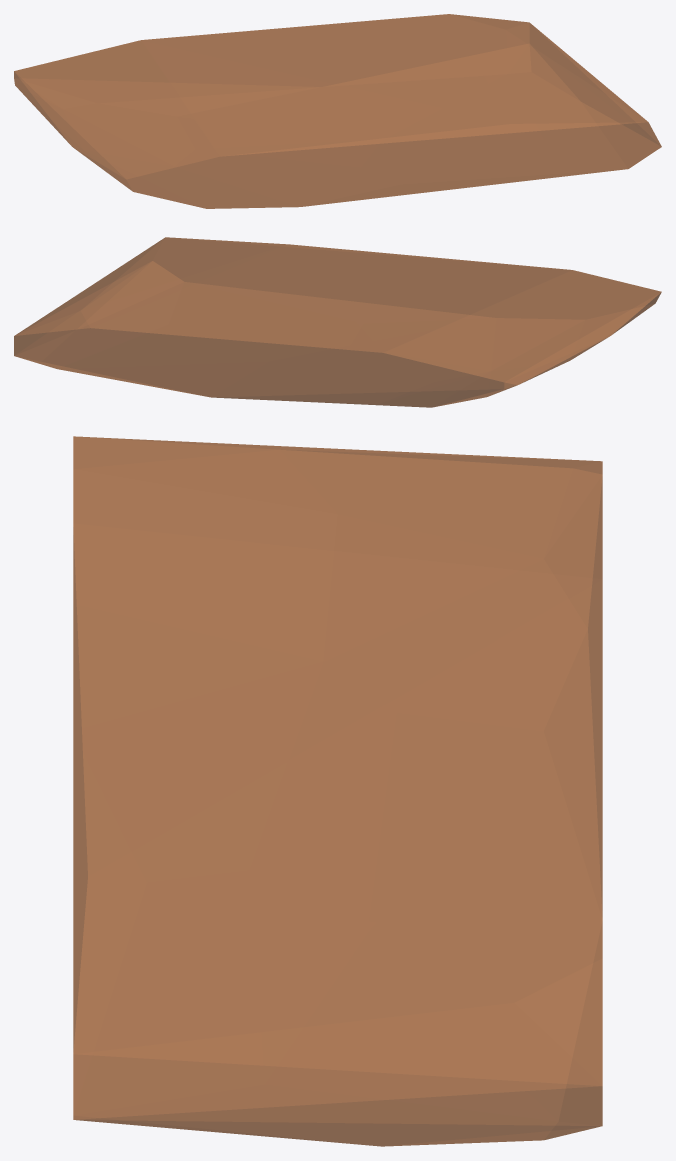
The picture shows the model from 3 angles, top to bottom: view 1: azimuth 30°, elevation 25°; view 2: azimuth 150°, elevation 25°; view 3: azimuth 270°, elevation 25°; orthographic projection. The views are drawn at different scales.
Visible parts, largest first — view 1: Shape_IndexedFaceSet.005_Shape_IndexedFaceSet.9008; view 2: Shape_IndexedFaceSet.005_Shape_IndexedFaceSet.9008; view 3: Shape_IndexedFaceSet.005_Shape_IndexedFaceSet.9008.
Part boxes in pixels (x1,y1,x2,y2): Shape_IndexedFaceSet.005_Shape_IndexedFaceSet.9008: (14,14,661,208); Shape_IndexedFaceSet.005_Shape_IndexedFaceSet.9008: (14,237,661,407); Shape_IndexedFaceSet.005_Shape_IndexedFaceSet.9008: (73,436,602,1146).
Bounding box in the file's own units: 0.0323 × 0.00638 × 0.0144.
